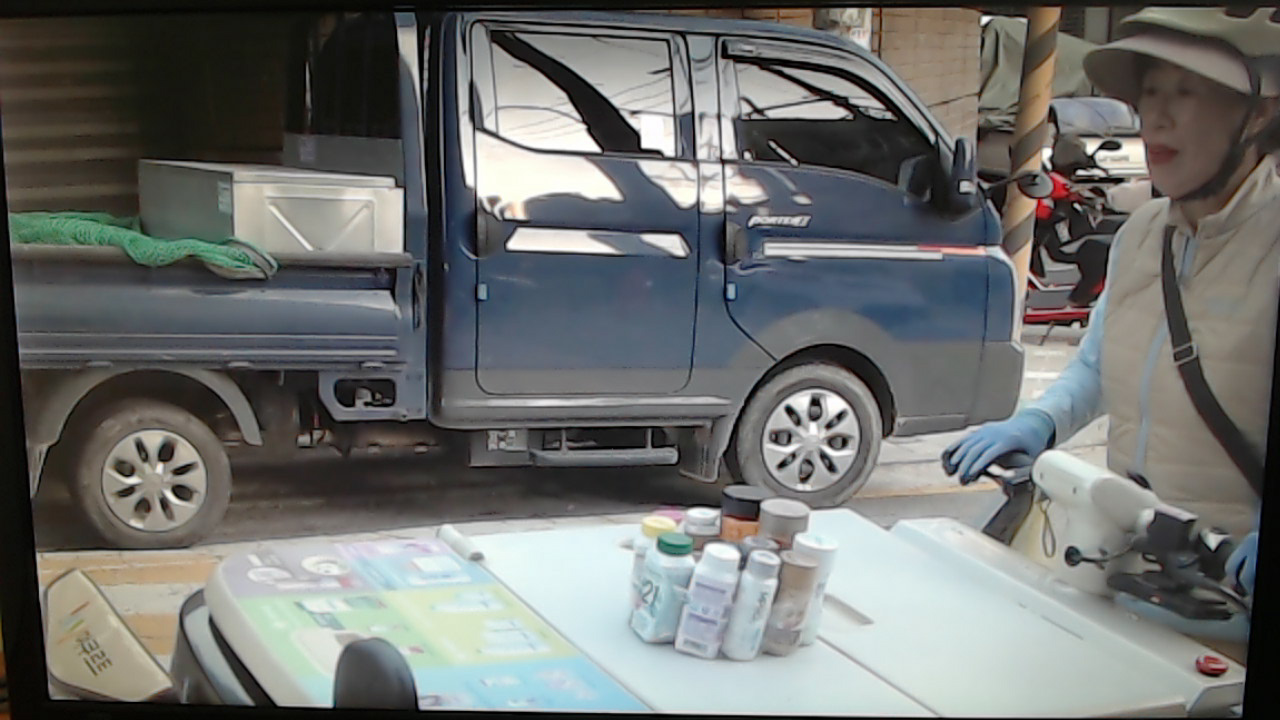Yakurut: (939, 7, 1280, 606)
